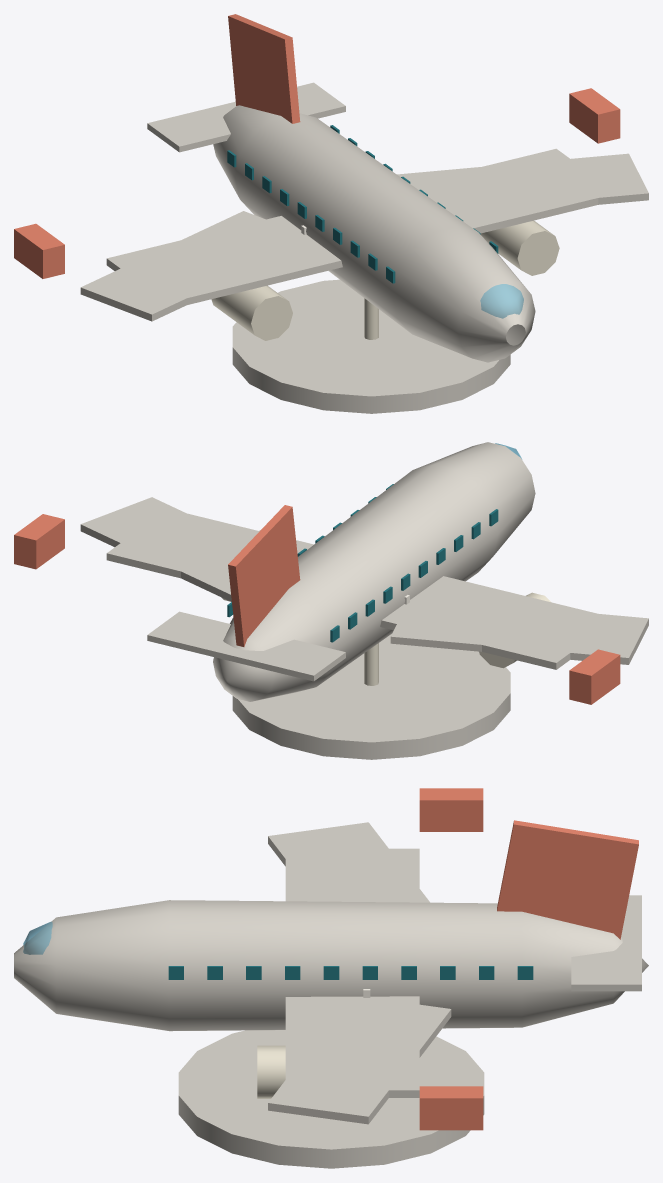
The model's file is airplane_deco.glb.
3 views of the same model, one above another, from view 1: azimuth 30°, elevation 25°; view 2: azimuth 150°, elevation 25°; view 3: azimuth 270°, elevation 25° (orthographic). The views are drawn at different scales.
Visible parts, largest first — view 1: airplane_deco; view 2: airplane_deco; view 3: airplane_deco.
Part boxes in pixels (x1,y1,x2,y2): airplane_deco: (14, 14, 648, 413); airplane_deco: (14, 442, 648, 759); airplane_deco: (14, 788, 648, 1168).
Size of the model in its own units: 10.4 by 4.39 by 9.
